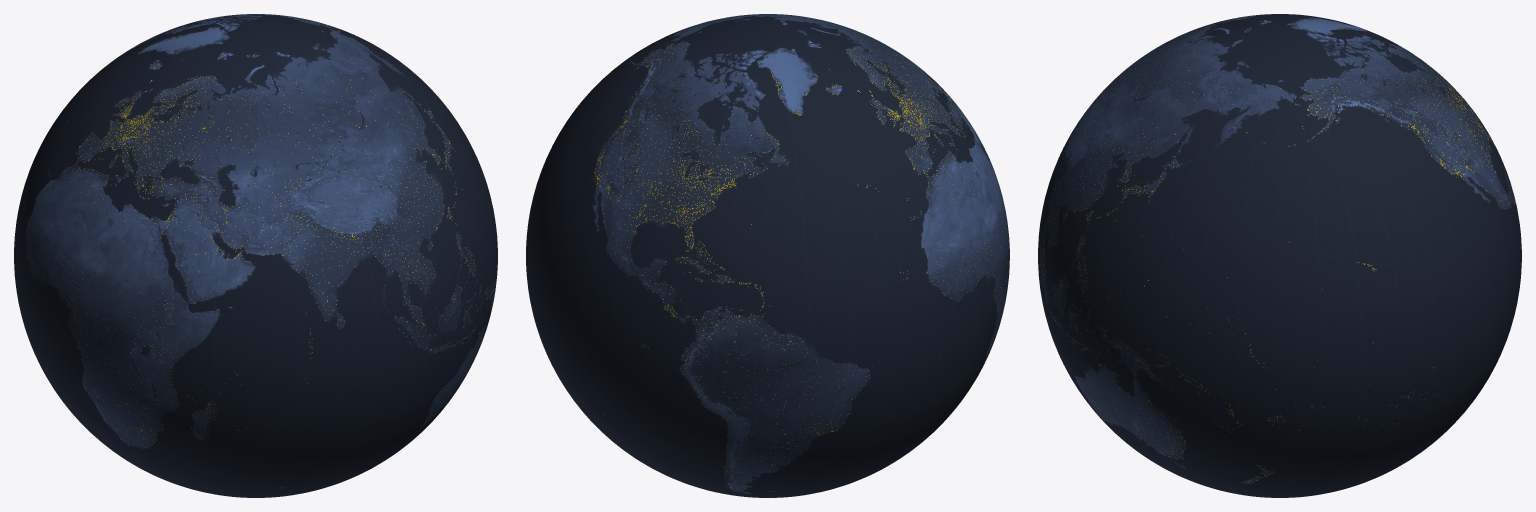
File: airports_around_the_world.glb
The picture shows the model from 3 angles, left to right: view 1: azimuth 30°, elevation 25°; view 2: azimuth 150°, elevation 25°; view 3: azimuth 270°, elevation 25°; orthographic projection.
Visible parts, largest first — view 1: Object_4, Object_2, Object_3; view 2: Object_4, Object_2, Object_3; view 3: Object_4, Object_2, Object_3.
Boxes of the visible parts, x1=… form: Object_4: x1=14, y1=14, x2=497, y2=497; Object_2: x1=25, y1=28, x2=494, y2=448; Object_3: x1=26, y1=22, x2=474, y2=430; Object_4: x1=526, y1=14, x2=1009, y2=497; Object_2: x1=593, y1=16, x2=1007, y2=492; Object_3: x1=594, y1=17, x2=990, y2=491; Object_4: x1=1038, y1=14, x2=1521, y2=497; Object_2: x1=1040, y1=21, x2=1509, y2=482; Object_3: x1=1050, y1=21, x2=1489, y2=469.
Bounding box in the file's own units: 0.3332 × 0.3333 × 0.3333.
2 materials, 1 textured.
